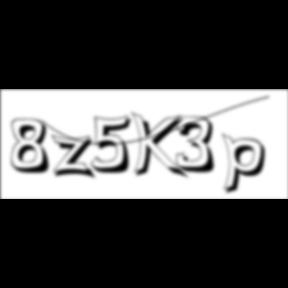3: (176, 116, 222, 176)
5: (90, 114, 138, 176)
8: (12, 117, 56, 176)
K: (132, 110, 190, 182)
p: (222, 132, 272, 198)
z: (52, 134, 101, 182)
